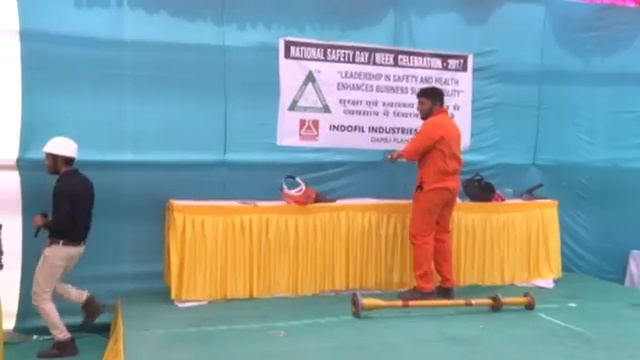helmet: (39, 135, 79, 161)
helmet_off: (416, 86, 445, 119)
helmet_on: (37, 135, 79, 176)
person: (28, 134, 105, 360), (394, 87, 461, 300)
